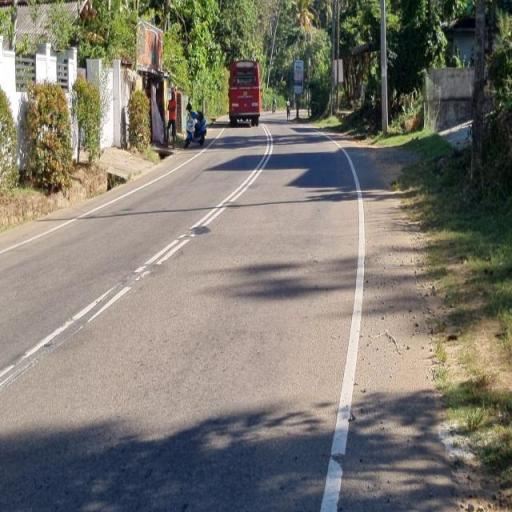double_white_line: (133, 124, 272, 280)
